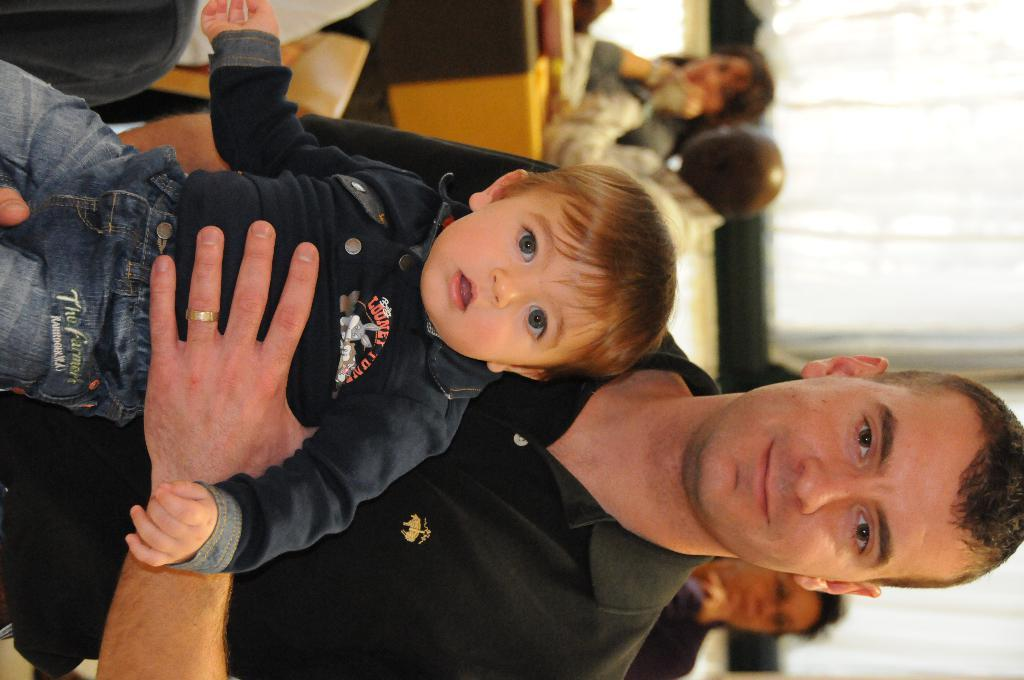Sem Máscara: (688, 372, 961, 575), (413, 194, 609, 363), (724, 563, 816, 633), (686, 53, 750, 110)
